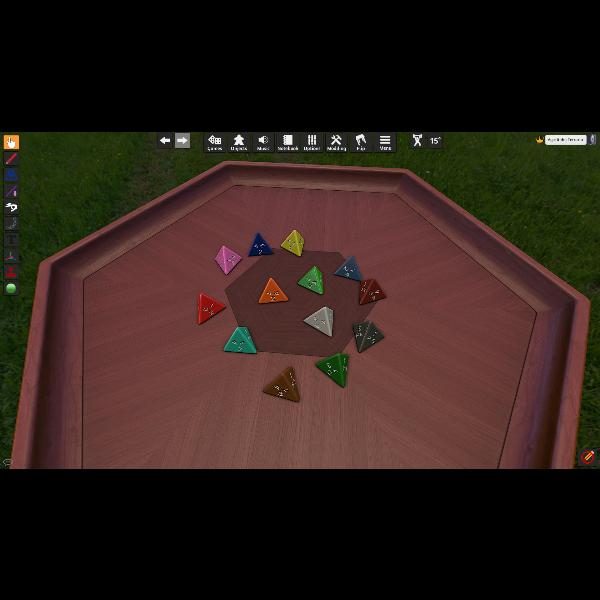d4: (264, 366, 300, 402), (315, 353, 347, 387), (352, 319, 384, 351), (303, 306, 333, 337), (196, 292, 224, 324), (224, 326, 256, 353), (216, 245, 242, 275), (258, 278, 288, 304), (298, 266, 324, 294), (360, 277, 386, 305), (334, 255, 360, 281), (281, 230, 305, 256), (248, 232, 272, 256)
